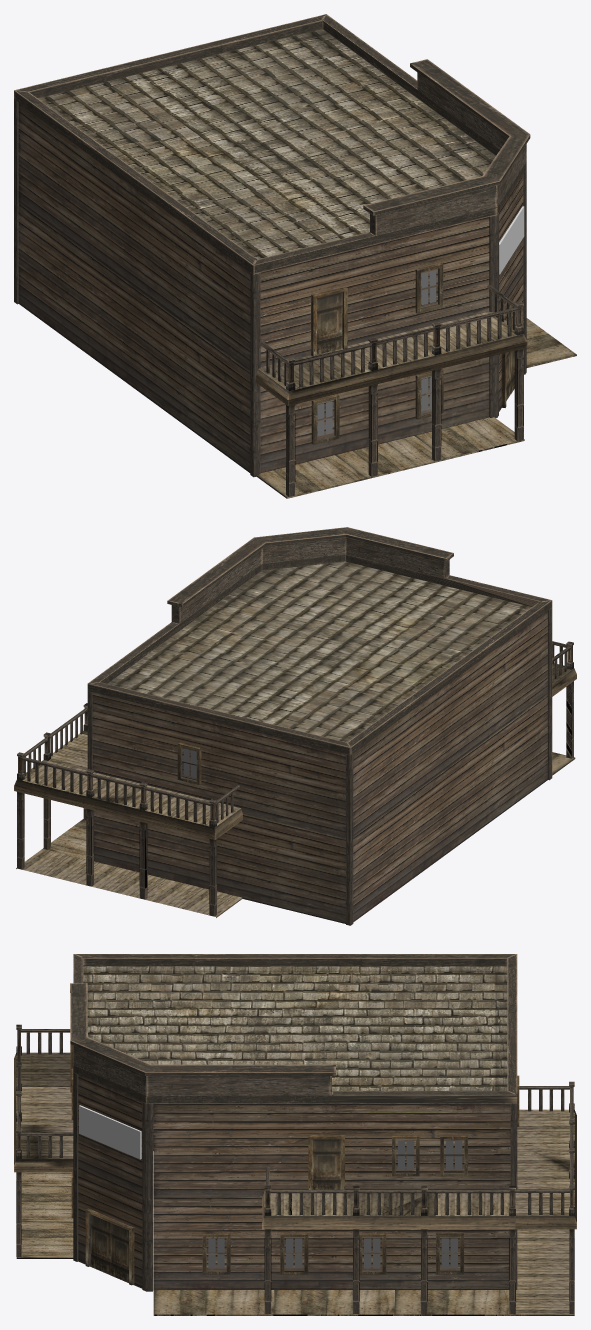
File: Building2_LOD1.FBX
3 renders of one model, top to bottom at view 1: azimuth 30°, elevation 25°; view 2: azimuth 150°, elevation 25°; view 3: azimuth 270°, elevation 25°, orthographic. The views are drawn at different scales.
Visible parts, largest first — view 1: roof, building, glass, sign; view 2: roof, building; view 3: roof, building, glass, sign.
Part boxes in pixels (left/top/right/bottom): roof: left=18, top=29, right=523, bottom=472; building: left=14, top=14, right=576, bottom=498; glass: left=317, top=270, right=436, bottom=436; sign: left=499, top=206, right=524, bottom=274; roof: left=92, top=561, right=547, bottom=923; building: left=14, top=527, right=576, bottom=925; roof: left=78, top=966, right=510, bottom=1290; building: left=14, top=954, right=576, bottom=1315; glass: left=208, top=1140, right=462, bottom=1268; sign: left=79, top=1105, right=141, bottom=1159.
Bounding box in the file's own units: 507 × 313 × 725.
